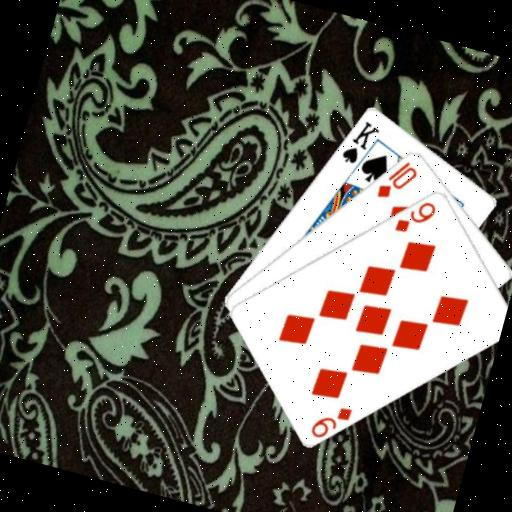10D: (373, 152, 422, 207)
9D: (391, 191, 440, 241), (306, 396, 355, 446)
KS: (336, 113, 383, 170)
